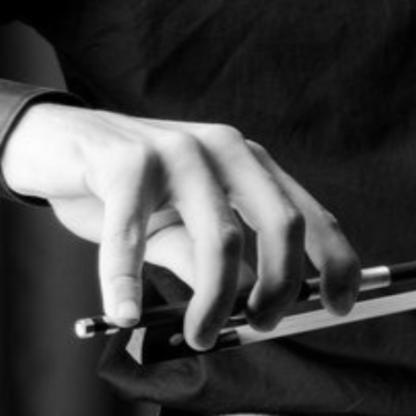bad: (63, 114, 382, 359)
